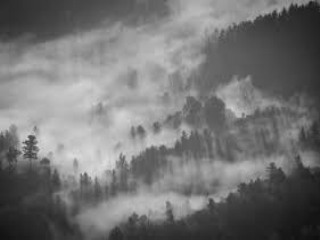smoke: (54, 134, 315, 225), (11, 29, 203, 147), (207, 74, 301, 130)
